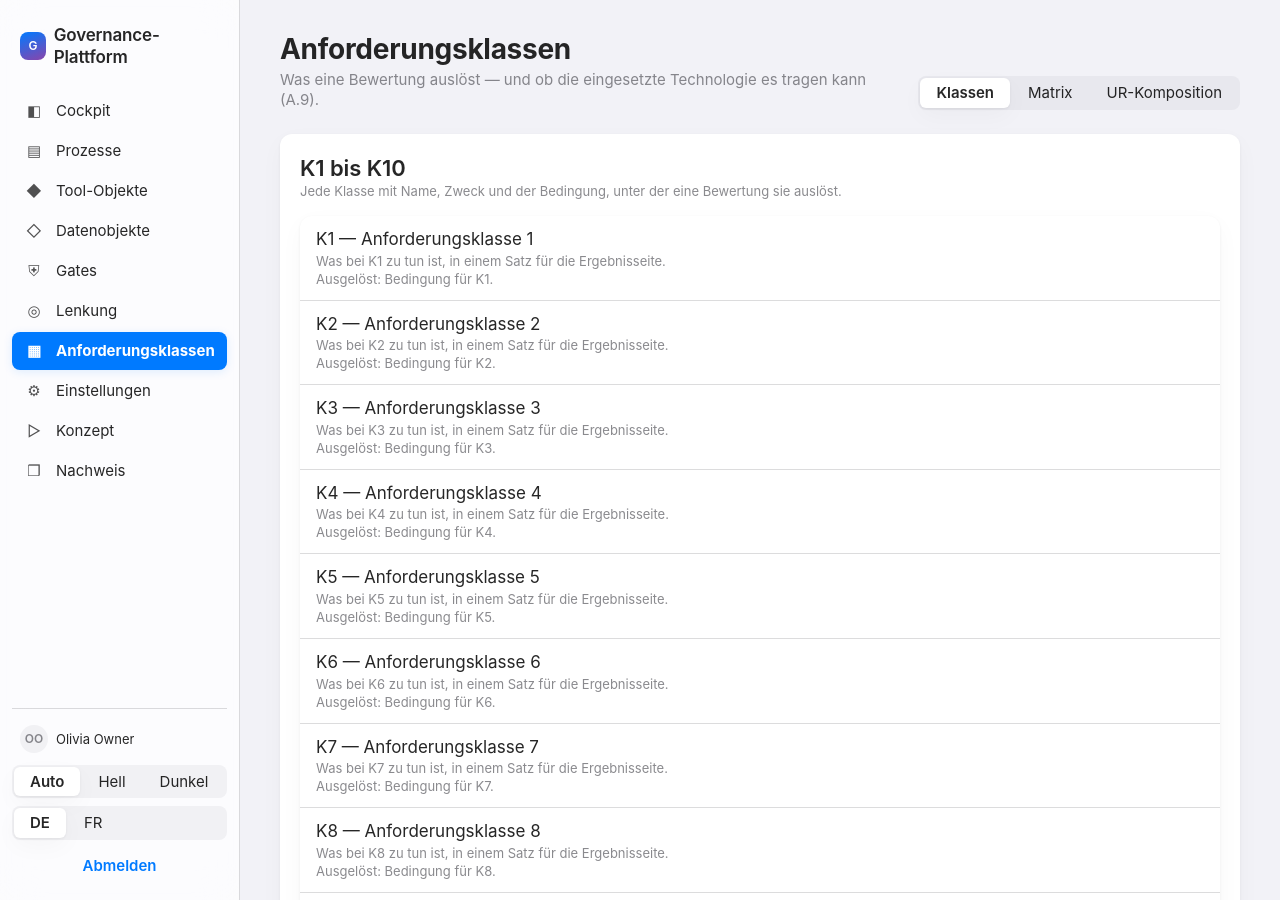
Test: Technologiematrix (Teil C.1) › pflegt ein Feld mit Pflichtbegründung
This screenshot has width=1280, height=900.
expect the element with test id "klasse-K1" is shown: met, box 316,229 -> 666,287
Click the button "Matrix" at (1050, 93), box 1012,78 -> 1088,108
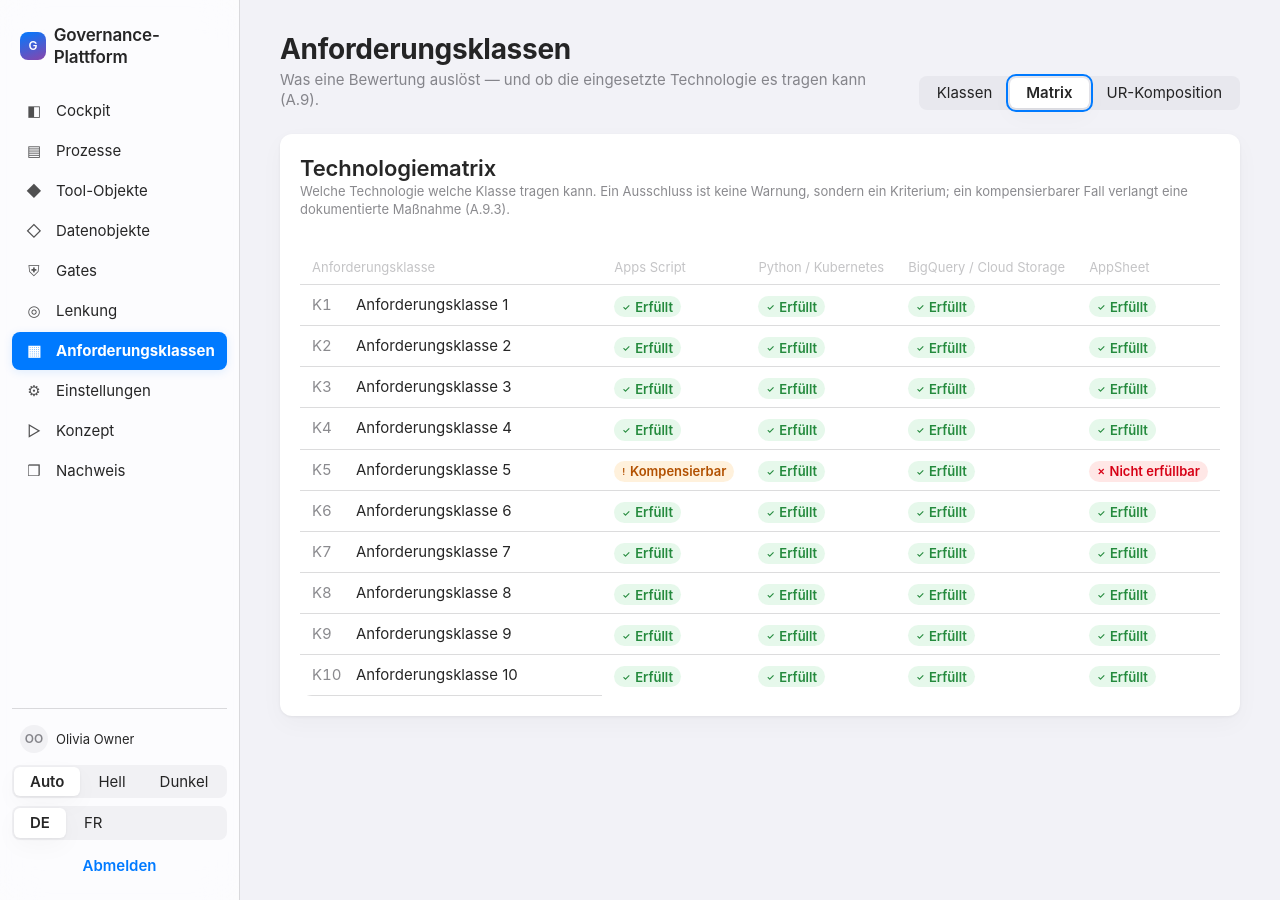
Click the button "! Kompensierbar" at (674, 470), box 614,458 -> 734,482
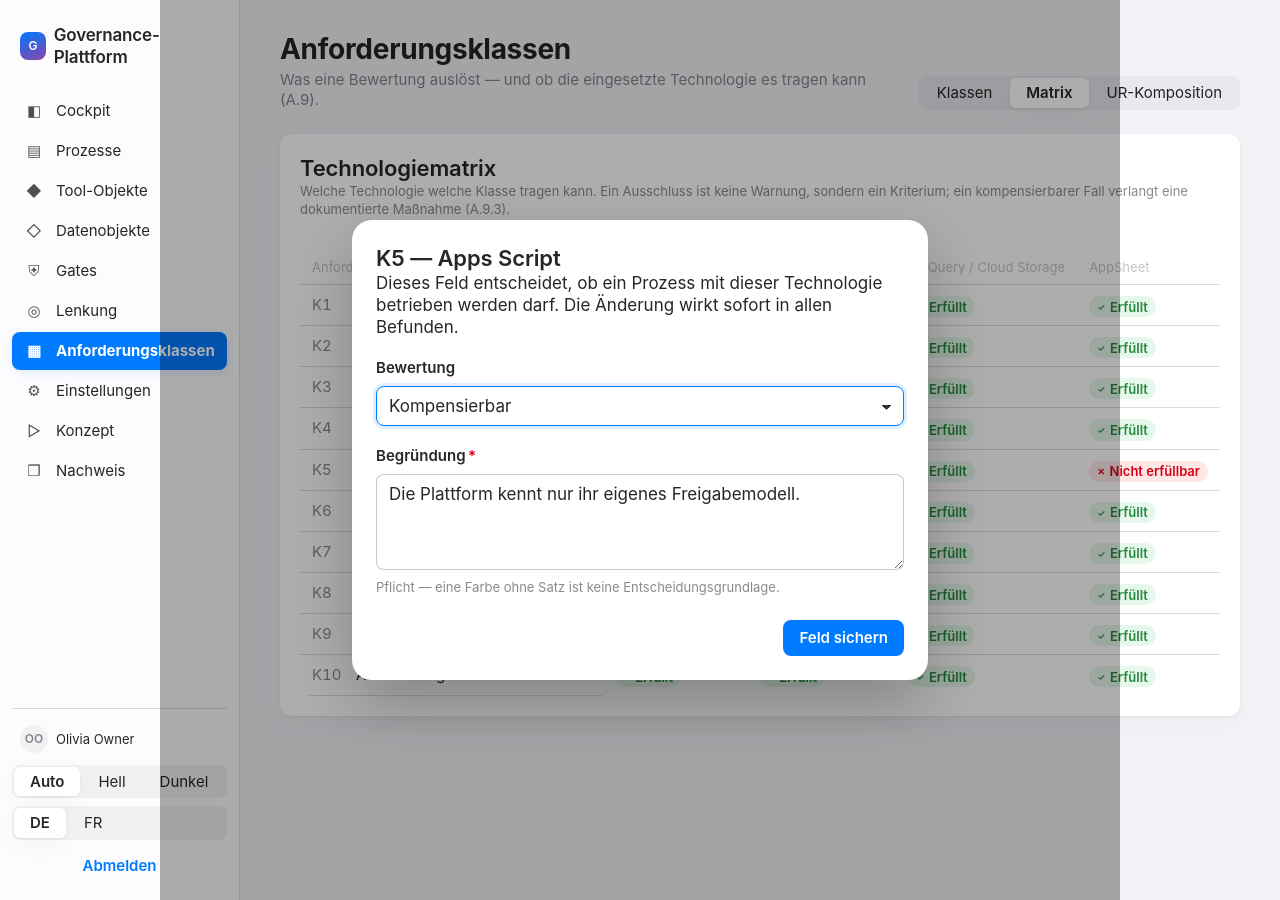
Note: Ohne Begründung geht nichts: das Feld entscheidet über einen Betrieb.
Clear the text box labelled "Begründung" at (640, 522), box 376,474 -> 904,570
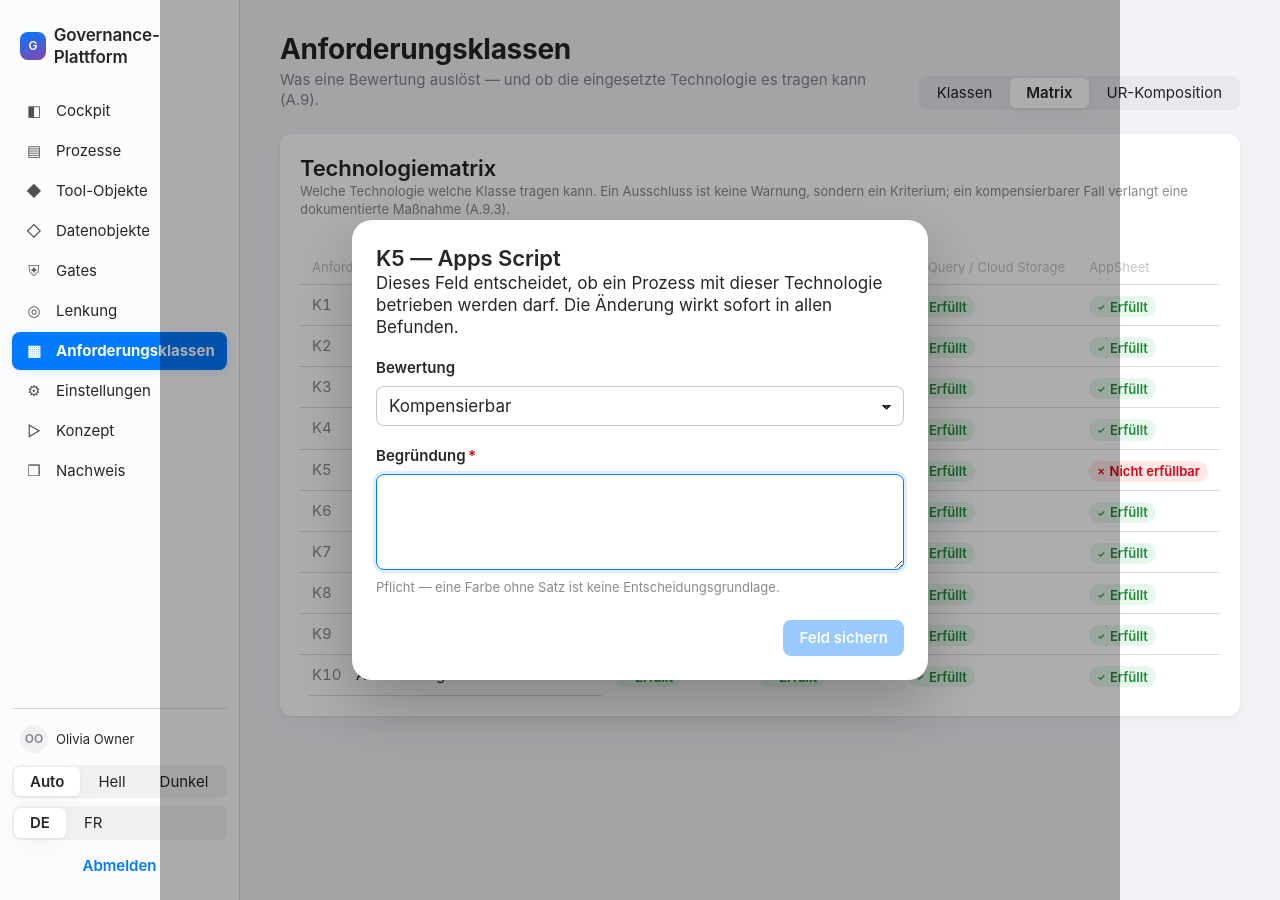
expect the button with test id "matrix-sichern" is disabled: met, box 784,620 -> 904,656
Select "Nicht erfüllbar" in the dropdown labelled "Bewertung" at (640, 406), box 376,386 -> 904,426
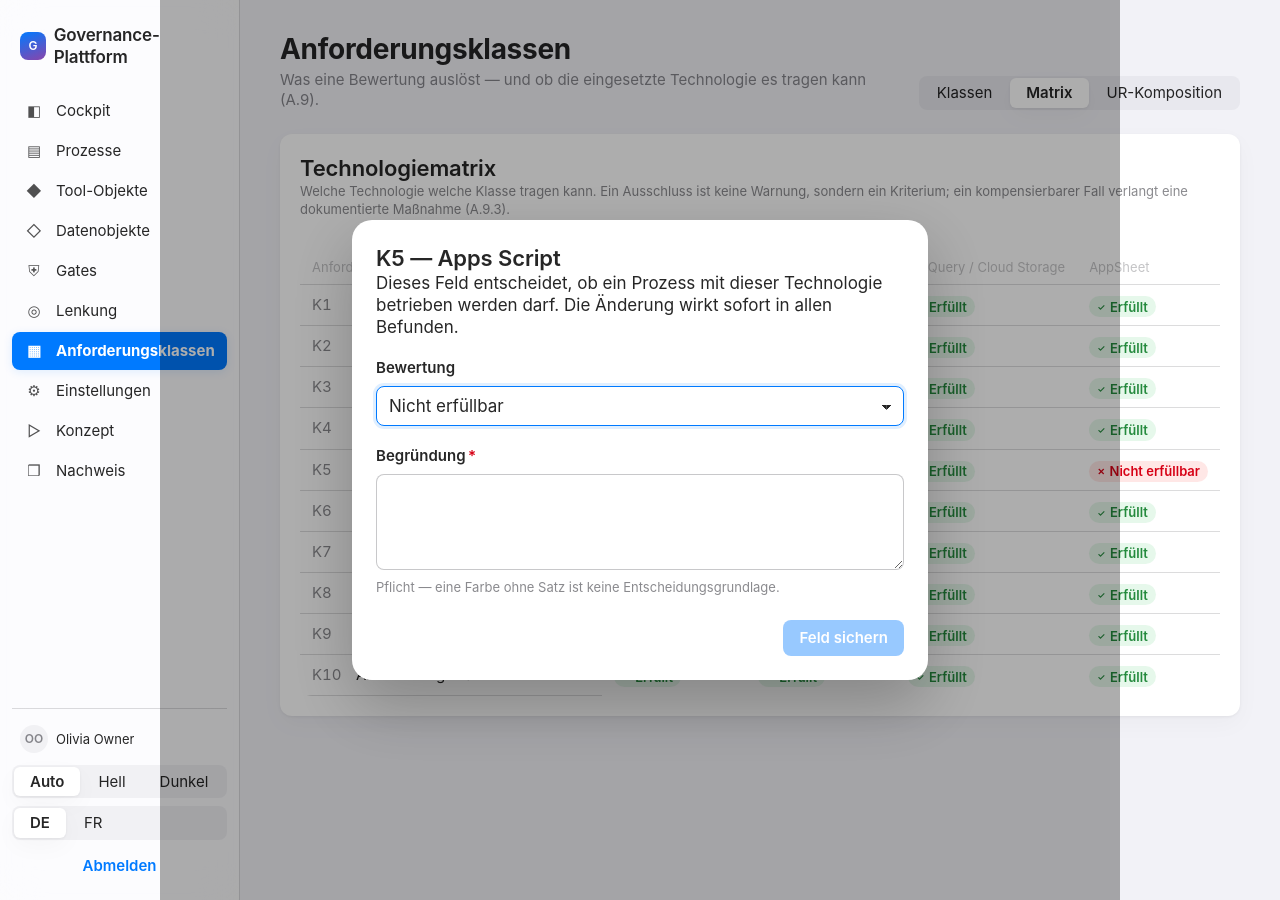
Type "Neu bewertet." into the text box labelled "Begründung" at (640, 522), box 376,474 -> 904,570
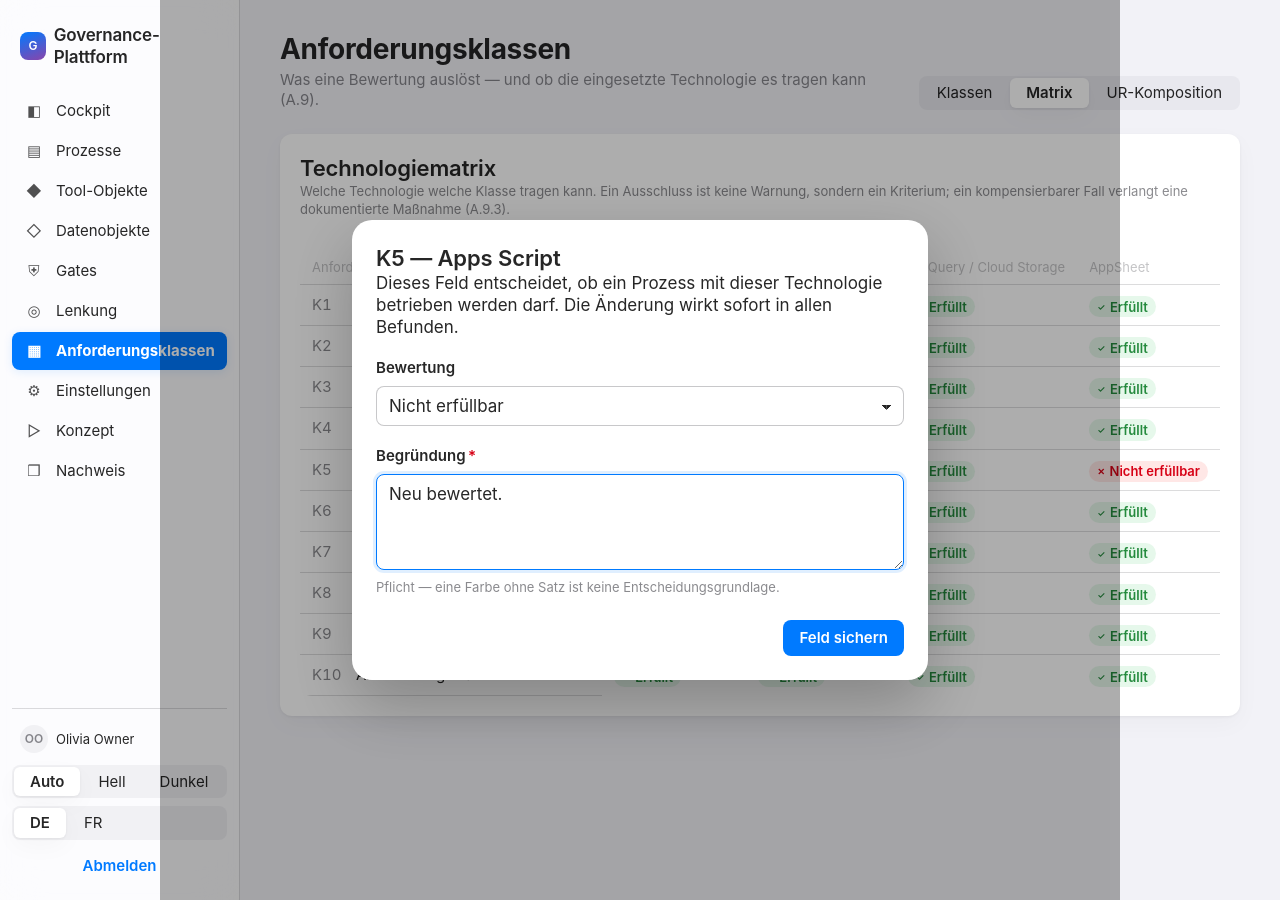
Click the button with test id "matrix-sichern" at (844, 638), box 784,620 -> 904,656
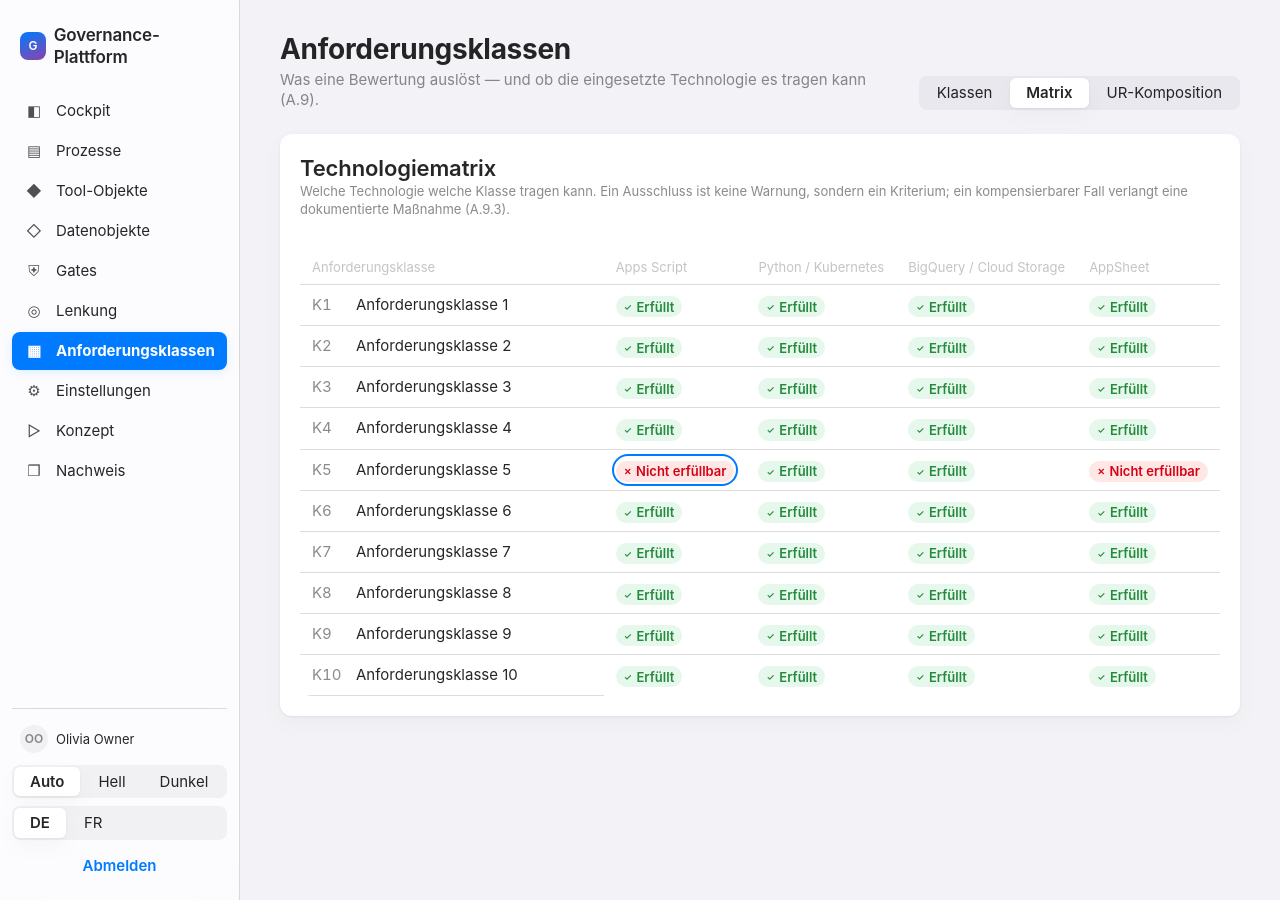
expect the cell with test id "matrix-apps-script-K5" shows "Nicht erfüllbar": met, box 616,458 -> 734,482
